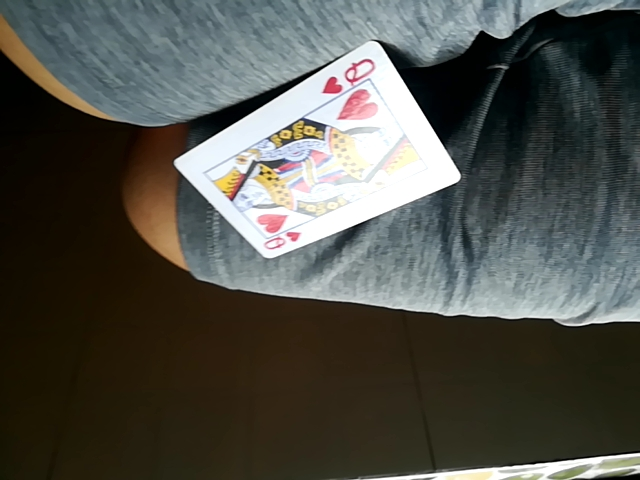hx q: (172, 40, 458, 262)
